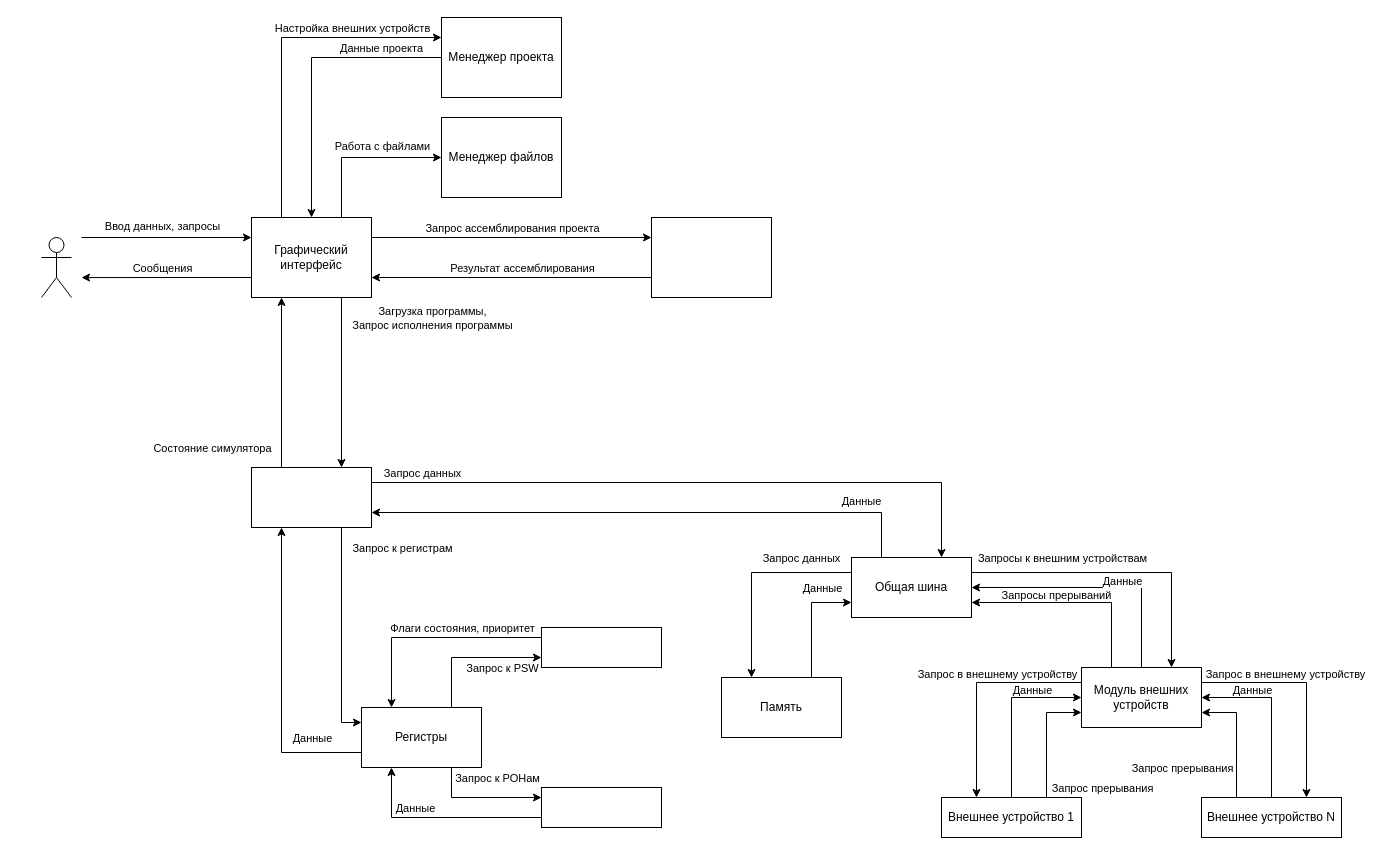
This 1382x855 diagram has some shape labels left out. Each missing label, with the box of its shape:
PSW: (540, 626, 662, 668)
Ассемблер: (650, 216, 772, 298)
Исполнитель: (250, 466, 372, 528)
Пользователь: (40, 236, 72, 298)
РОНы: (540, 786, 662, 828)
